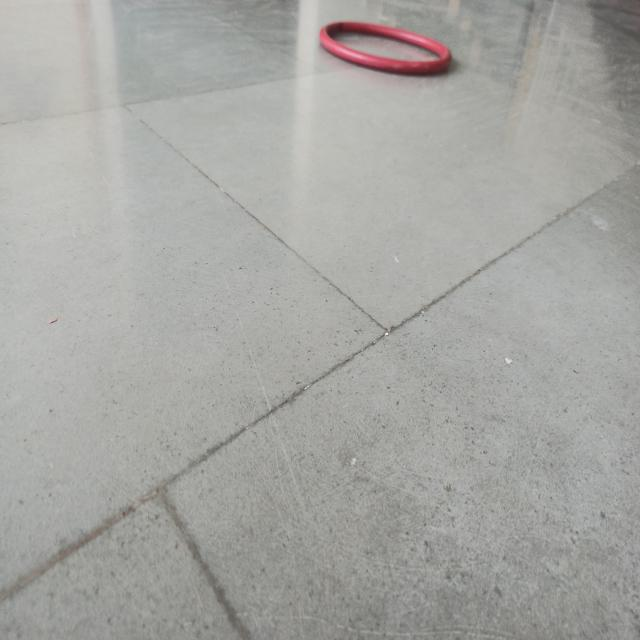daire: (318, 13, 453, 78)
